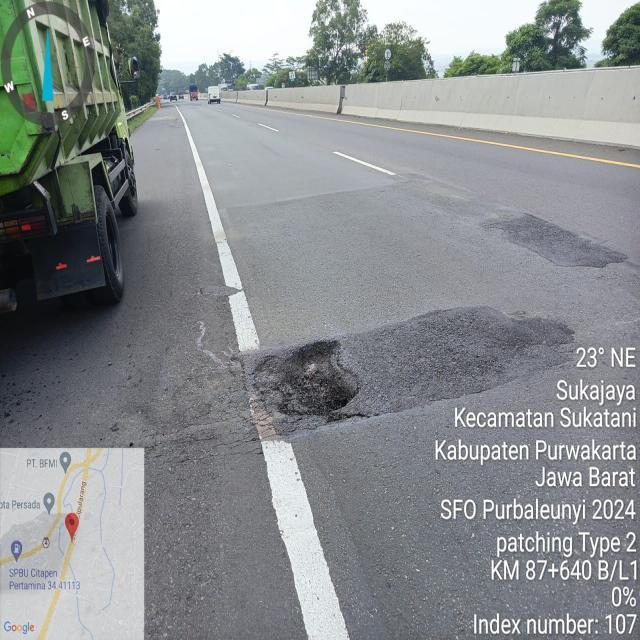Buraco: (250, 337, 377, 435)
